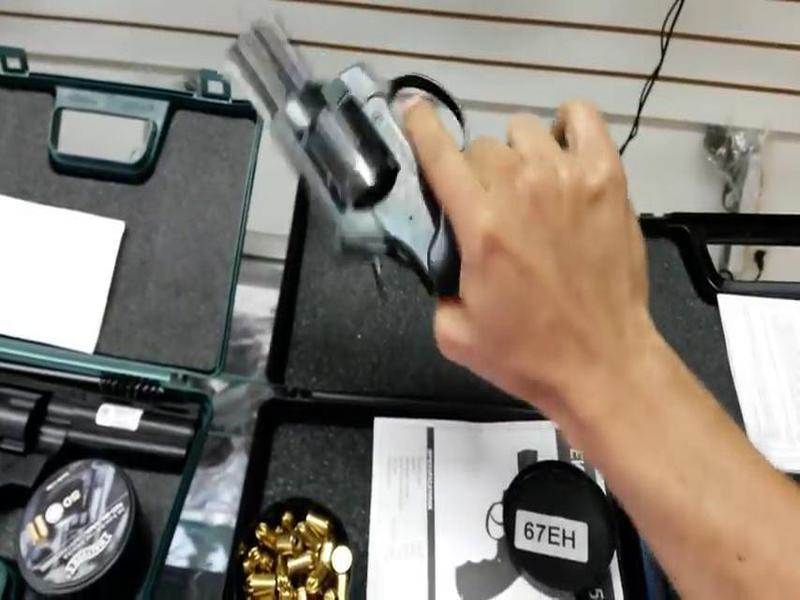Revolver: (143, 1, 526, 291)
